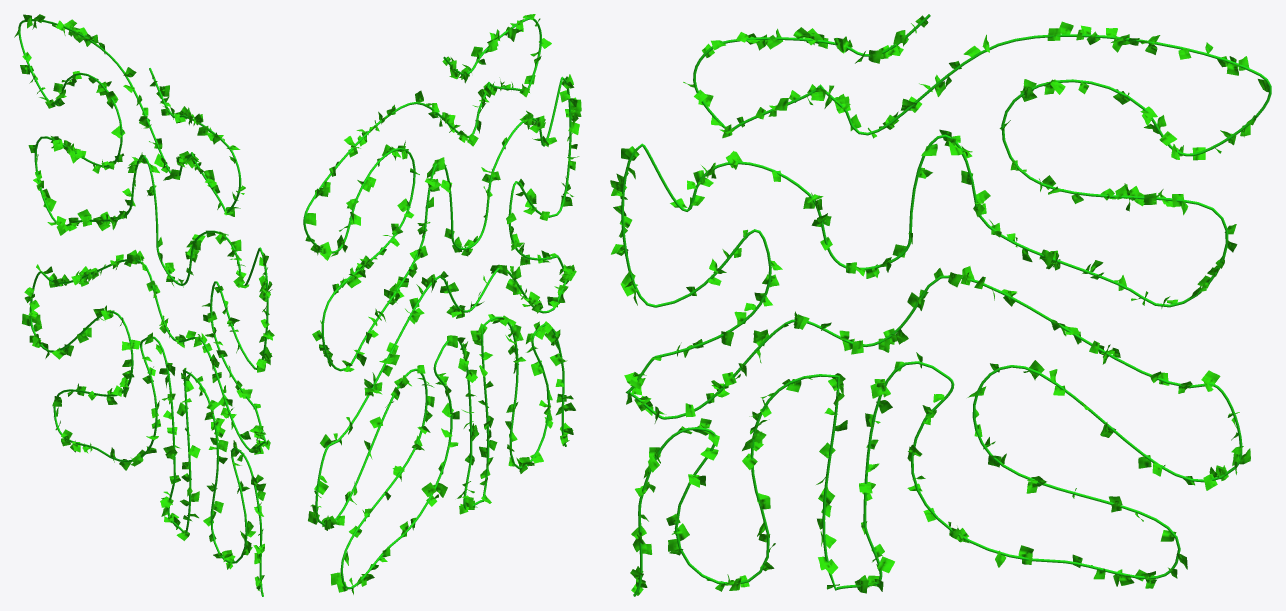
Rendered from vine7.fbx.
3 views of the same model, side by side, from view 1: azimuth 30°, elevation 25°; view 2: azimuth 150°, elevation 25°; view 3: azimuth 270°, elevation 25° (orthographic). The views are drawn at different scales.
Parts seen in each view (by area): view 1: BézierCurve.007; view 2: BézierCurve.007; view 3: BézierCurve.007.
Boxes of the visible parts, x1,y1,x2,y2 form: BézierCurve.007: (14,14,274,596); BézierCurve.007: (303,14,581,594); BézierCurve.007: (610,14,1271,596).
Size of the model in its own units: 29.1 by 569 by 585.
